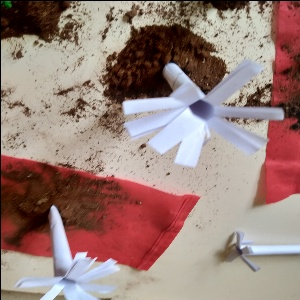weed: (130, 48, 268, 166), (18, 198, 131, 300), (223, 230, 300, 276)
